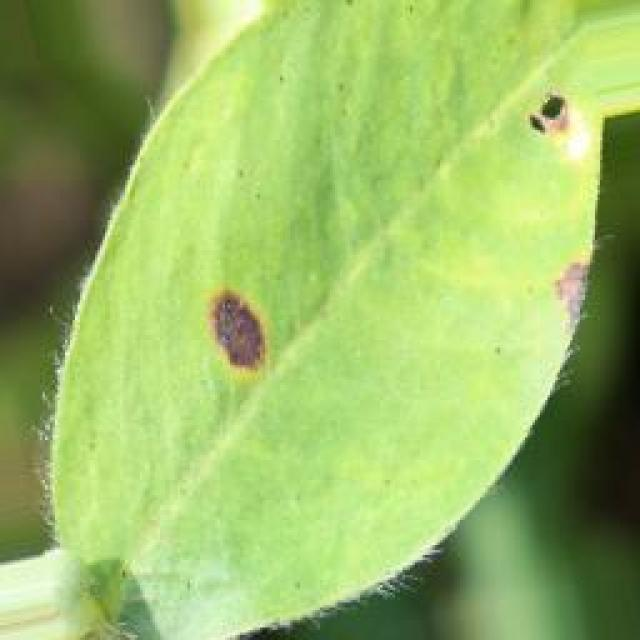Early_leaf_spot: (196, 262, 278, 398), (495, 96, 623, 172), (505, 258, 606, 345)
